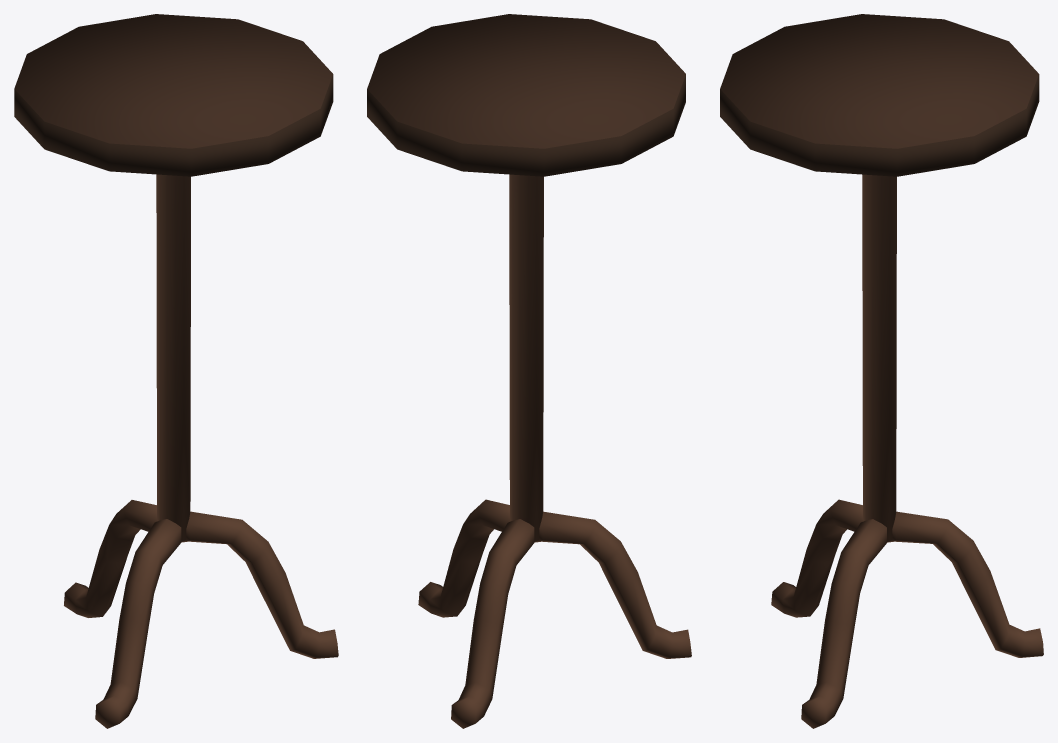
3 views of the same model, side by side, from view 1: azimuth 30°, elevation 25°; view 2: azimuth 150°, elevation 25°; view 3: azimuth 270°, elevation 25° (orthographic).
Parts seen in each view (by area): view 1: EndTable; view 2: EndTable; view 3: EndTable.
Boxes of the visible parts, x1,y1,x2,y2 form: EndTable: (14,14,338,728); EndTable: (367,14,691,728); EndTable: (720,14,1043,728).
Bounding box in the file's own units: 0.2475 × 0.5 × 0.2511.
